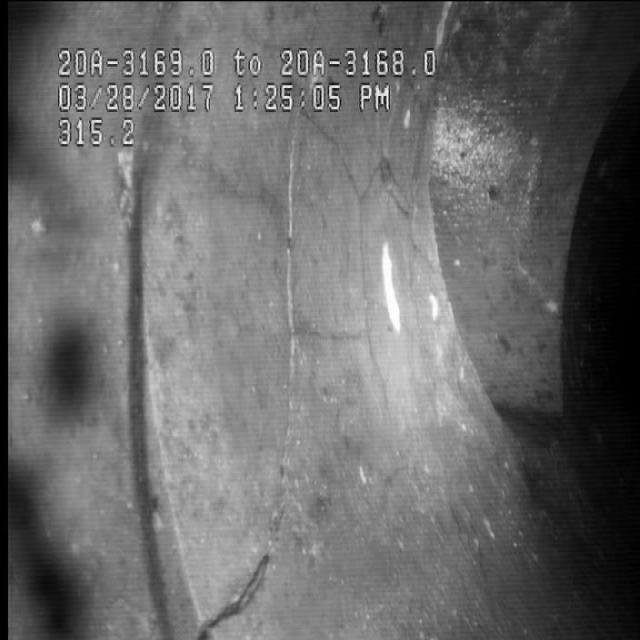Crack: (238, 137, 334, 615)
